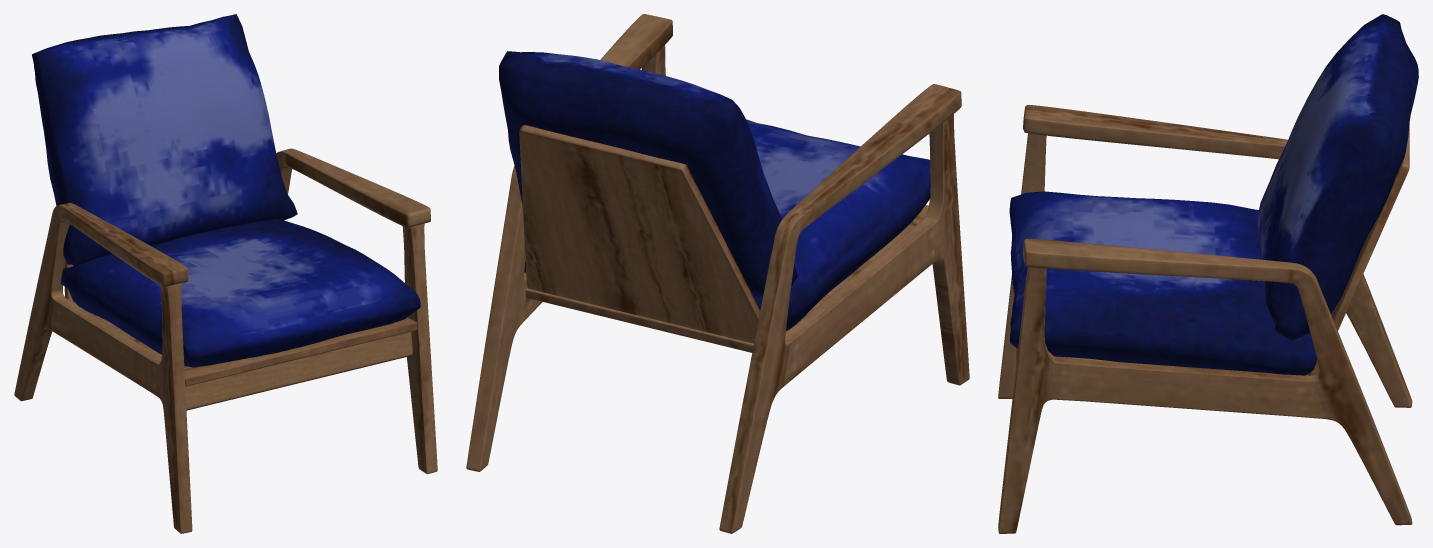
Rendered from nyb_prada_chair.glb.
3 renders of one model, left to right at view 1: azimuth 30°, elevation 25°; view 2: azimuth 150°, elevation 25°; view 3: azimuth 270°, elevation 25°, orthographic. The views are drawn at different scales.
Parts seen in each view (by area): view 1: modern_arm_chair_01; view 2: modern_arm_chair_01; view 3: modern_arm_chair_01.
Boxes of the visible parts, left/top/right/bottom form: modern_arm_chair_01: left=14, top=14, right=437, bottom=533; modern_arm_chair_01: left=466, top=14, right=969, bottom=533; modern_arm_chair_01: left=998, top=14, right=1418, bottom=533.
Bounding box in the file's own units: 0.8203 × 1.02 × 0.9866.
2 materials, 2 textured.
